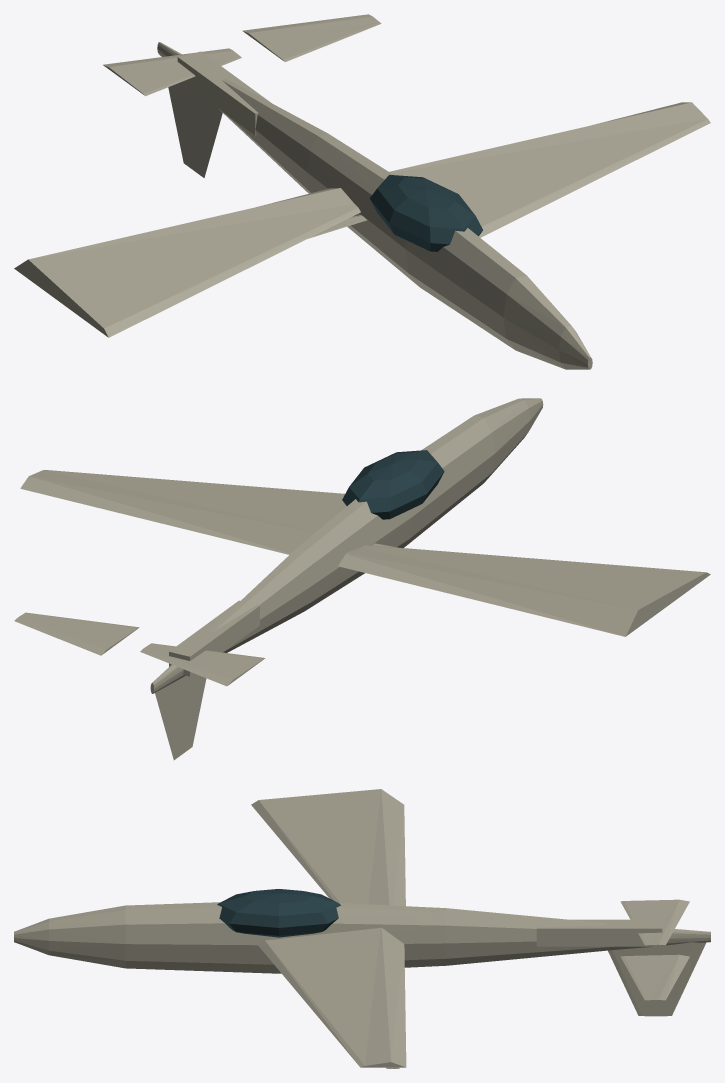
The picture shows the model from 3 angles, top to bottom: view 1: azimuth 30°, elevation 25°; view 2: azimuth 150°, elevation 25°; view 3: azimuth 270°, elevation 25°; orthographic projection. The views are drawn at different scales.
Visible parts, largest first — view 1: Fuselage, Wing_L, Wing_R, Cockpit, Elevator_R, Rudder, TailBoom, Elevator_L; view 2: Fuselage, Wing_L, Wing_R, Cockpit, Rudder, Elevator_R, TailBoom, Elevator_L; view 3: Fuselage, Wing_R, Wing_L, Cockpit, TailBoom, Rudder, Elevator_R, Elevator_L.
Boxes of the visible parts, left/top/right/bottom form: Fuselage: left=157, top=42, right=592, bottom=369; Wing_L: left=14, top=188, right=360, bottom=337; Wing_R: left=389, top=102, right=710, bottom=237; Cockpit: left=369, top=174, right=482, bottom=251; Elevator_R: left=242, top=14, right=381, bottom=61; Rudder: left=168, top=82, right=222, bottom=177; TailBoom: left=177, top=51, right=270, bottom=135; Elevator_L: left=103, top=48, right=241, bottom=96; Fuselage: left=150, top=398, right=543, bottom=693; Wing_L: left=338, top=545, right=710, bottom=636; Wing_R: left=20, top=470, right=346, bottom=554; Cockpit: left=342, top=450, right=444, bottom=519; Rudder: left=155, top=673, right=206, bottom=760; Elevator_R: left=14, top=612, right=139, bottom=655; TailBoom: left=169, top=600, right=259, bottom=676; Elevator_L: left=140, top=643, right=265, bottom=686; Fuselage: left=14, top=902, right=710, bottom=973; Wing_R: left=258, top=927, right=406, bottom=1067; Wing_L: left=251, top=789, right=405, bottom=906; Cockpit: left=217, top=889, right=340, bottom=937; TailBoom: left=536, top=919, right=662, bottom=946; Rudder: left=608, top=934, right=706, bottom=1016; Elevator_R: left=621, top=954, right=689, bottom=1000; Elevator_L: left=620, top=899, right=689, bottom=945.
Bounding box in the file's own units: 13.79 × 2.98 × 15.36.
